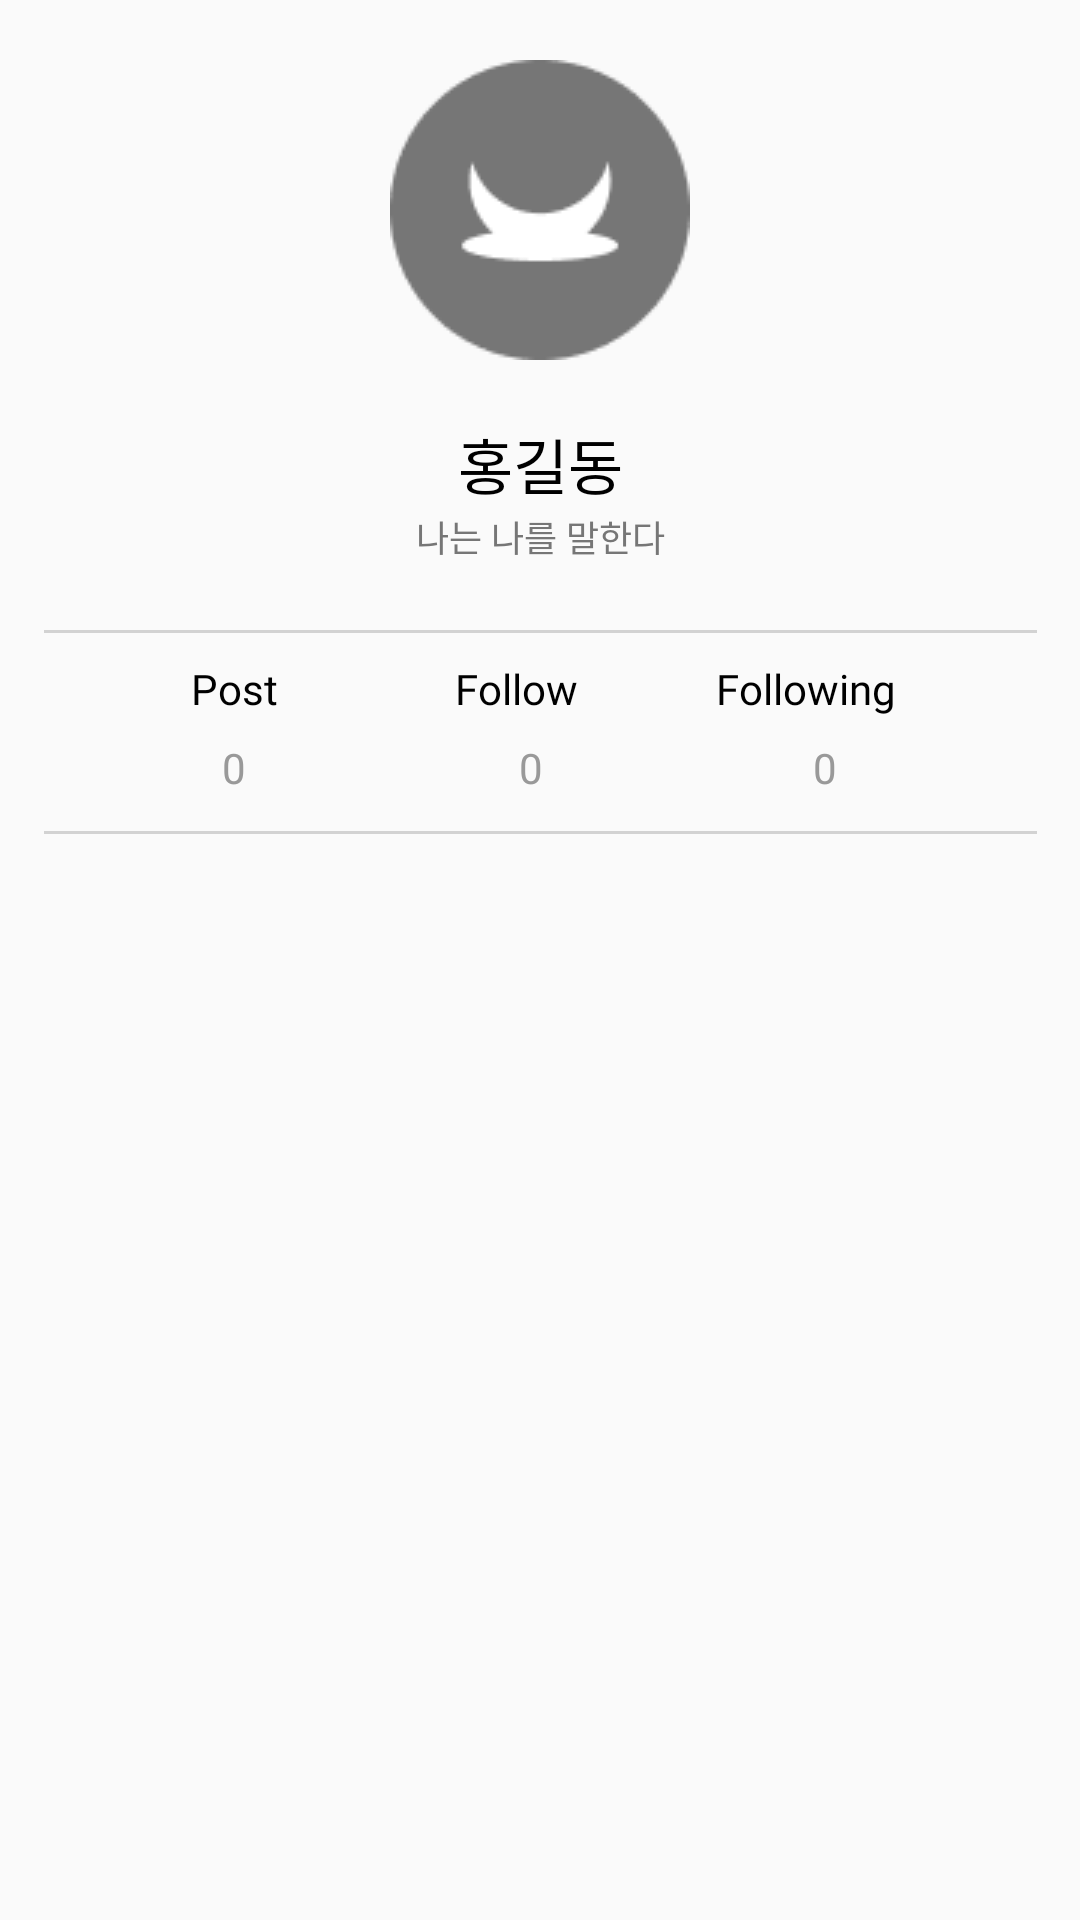

Named icons in this screenshot (1080x1920) and their bounding boxes, bbox(x1, y1, x2, y2):
profile: bbox(390, 60, 690, 360)
